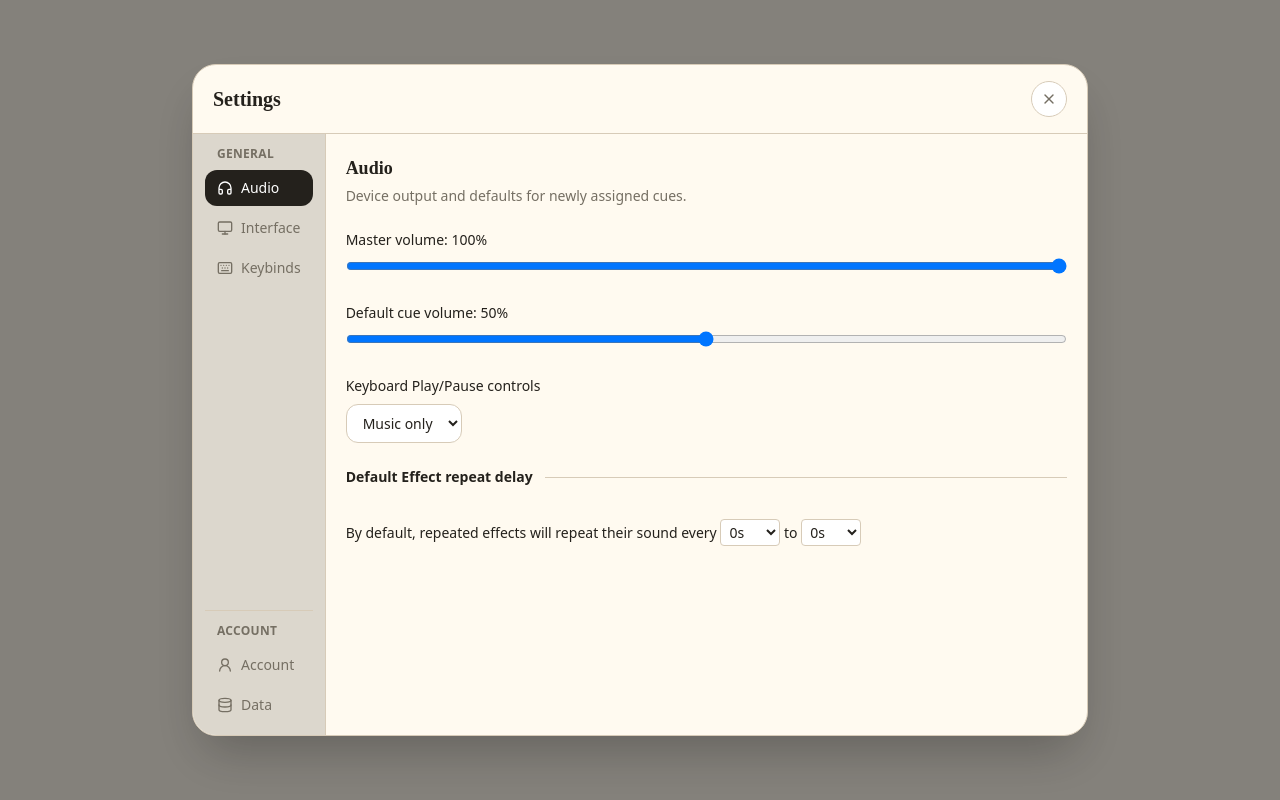
Test: SettingsModal local reset › places workspace export beside workspace import
This screenshot has width=1280, height=800.
Click the tab "Data": coordinates (259, 705) [205,687,313,723]
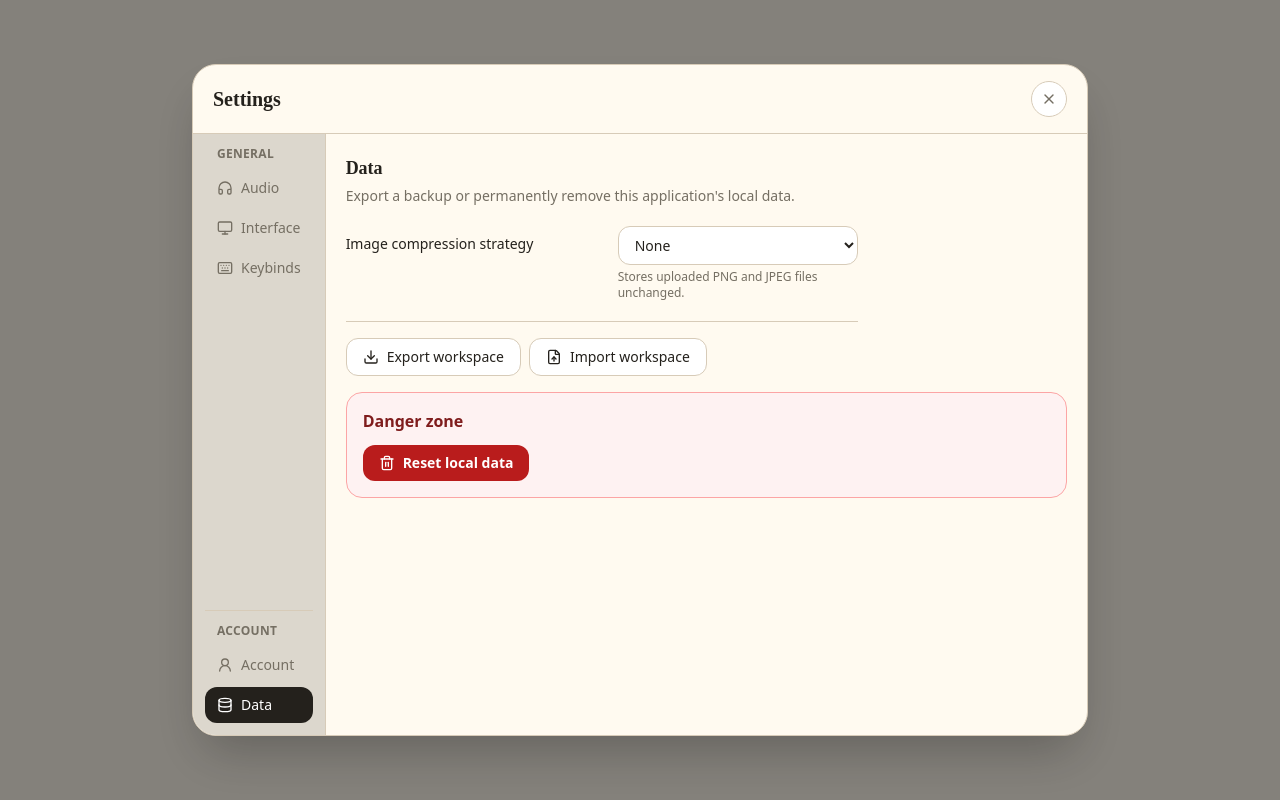
Check: the button "Export workspace" is shown, box [346,338,521,376]
Check: the file field "Import workspace" is shown, box [529,338,707,376]
